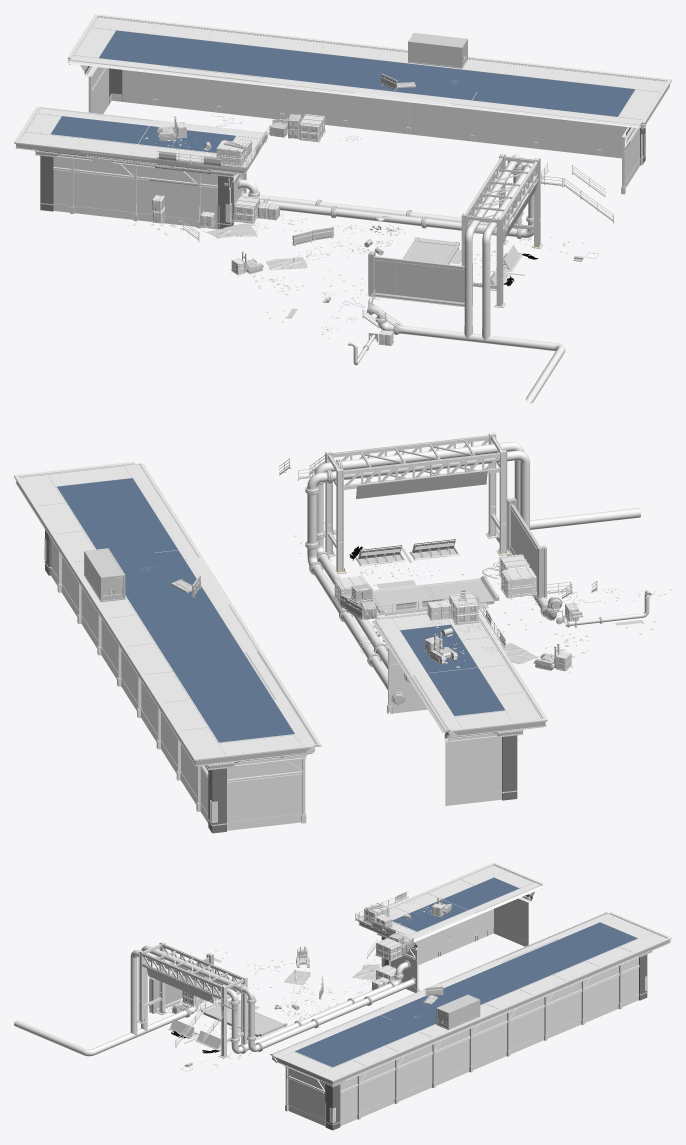
The model's file is cell_164_105.fbx.
3 views of the same model, one above another, from view 1: azimuth 30°, elevation 25°; view 2: azimuth 150°, elevation 25°; view 3: azimuth 270°, elevation 25° (orthographic). The views are drawn at different scales.
Visible parts, largest first — view 1: SM_I_RoadFacility_Ground_L_12C.mo, SM_I_RoadFacility_Ground_L_17b_Ruin.mo, SM_H_WalkwaySystem_MetalSupport_04.mo, SM_H_Fence_SoundproofWall_02.mo.007, SM_H_Industrial_Container_02.mo.018, SM_I_RoadFacility_Ground_L_12C_Decal.mo, SM_RoadFacility_Road_AsphaltRoad_512_01.mo.005, SM_H_Industrial_Container_SupplyBox_01.mo.051, SM_H_Industrial_Container_SupplyBox_01.mo.050, SM_H_Industrial_Container_SupplyBox_01.mo.054; view 2: SM_I_RoadFacility_Ground_L_12C.mo, SM_I_RoadFacility_Ground_L_17b_Ruin.mo, SM_H_WalkwaySystem_MetalSupport_04.mo, SM_RoadFacility_Road_AsphaltRoad_512_01.mo.005, SM_H_Industrial_Container_02.mo.018, SM_H_Branding_Poster_Screen_01.mo.006, SM_H_Fence_SoundproofWall_02.mo.007, SM_H_Industrial_Container_SupplyBox_01.mo.056, SM_H_Industrial_Container_SupplyBox_01.mo.050; view 3: SM_I_RoadFacility_Ground_L_12C.mo, SM_I_RoadFacility_Ground_L_17b_Ruin.mo, SM_H_WalkwaySystem_MetalSupport_04.mo, SM_H_Industrial_Container_02.mo.018, SM_RoadFacility_Road_AsphaltRoad_512_01.mo.005, SM_H_Fence_SoundproofWall_02.mo.007, SM_H_Branding_Poster_Screen_01.mo.007, SM_H_Industrial_Container_SupplyBox_01.mo.051, SM_I_RoadFacility_Ground_L_12C_Decal.mo.
Boxes of the visible parts, x1=… form: SM_I_RoadFacility_Ground_L_12C.mo: x1=14, y1=14, x2=671, y2=229; SM_I_RoadFacility_Ground_L_17b_Ruin.mo: x1=241, y1=154, x2=565, y2=403; SM_H_WalkwaySystem_MetalSupport_04.mo: x1=461, y1=154, x2=542, y2=307; SM_H_Fence_SoundproofWall_02.mo.007: x1=374, y1=256, x2=472, y2=306; SM_H_Industrial_Container_02.mo.018: x1=408, y1=33, x2=467, y2=68; SM_I_RoadFacility_Ground_L_12C_Decal.mo: x1=39, y1=134, x2=645, y2=229; SM_RoadFacility_Road_AsphaltRoad_512_01.mo.005: x1=403, y1=237, x2=459, y2=264; SM_H_Industrial_Container_SupplyBox_01.mo.051: x1=298, y1=114, x2=325, y2=142; SM_H_Industrial_Container_SupplyBox_01.mo.050: x1=216, y1=140, x2=247, y2=166; SM_H_Industrial_Container_SupplyBox_01.mo.054: x1=233, y1=195, x2=260, y2=223; SM_I_RoadFacility_Ground_L_12C.mo: x1=14, y1=461, x2=547, y2=833; SM_I_RoadFacility_Ground_L_17b_Ruin.mo: x1=307, y1=442, x2=651, y2=690; SM_H_WalkwaySystem_MetalSupport_04.mo: x1=325, y1=432, x2=509, y2=574; SM_RoadFacility_Road_AsphaltRoad_512_01.mo.005: x1=372, y1=575, x2=499, y2=615; SM_H_Industrial_Container_02.mo.018: x1=84, y1=548, x2=125, y2=602; SM_H_Branding_Poster_Screen_01.mo.006: x1=356, y1=471, x2=486, y2=498; SM_H_Fence_SoundproofWall_02.mo.007: x1=507, y1=497, x2=540, y2=591; SM_H_Industrial_Container_SupplyBox_01.mo.056: x1=500, y1=567, x2=537, y2=598; SM_H_Industrial_Container_SupplyBox_01.mo.050: x1=448, y1=592, x2=479, y2=625; SM_I_RoadFacility_Ground_L_12C.mo: x1=269, y1=862, x2=671, y2=1130; SM_I_RoadFacility_Ground_L_17b_Ruin.mo: x1=14, y1=945, x2=414, y2=1056; SM_H_WalkwaySystem_MetalSupport_04.mo: x1=136, y1=941, x2=247, y2=1058; SM_H_Industrial_Container_02.mo.018: x1=436, y1=994, x2=480, y2=1029; SM_RoadFacility_Road_AsphaltRoad_512_01.mo.005: x1=200, y1=999, x2=287, y2=1037; SM_H_Fence_SoundproofWall_02.mo.007: x1=149, y1=957, x2=209, y2=1013; SM_H_Branding_Poster_Screen_01.mo.007: x1=146, y1=967, x2=213, y2=1003; SM_H_Industrial_Container_SupplyBox_01.mo.051: x1=375, y1=938, x2=402, y2=961; SM_I_RoadFacility_Ground_L_12C_Decal.mo: x1=286, y1=926, x2=425, y2=1127.
Bounding box in the file's own units: 70.77 × 14.6 × 90.
